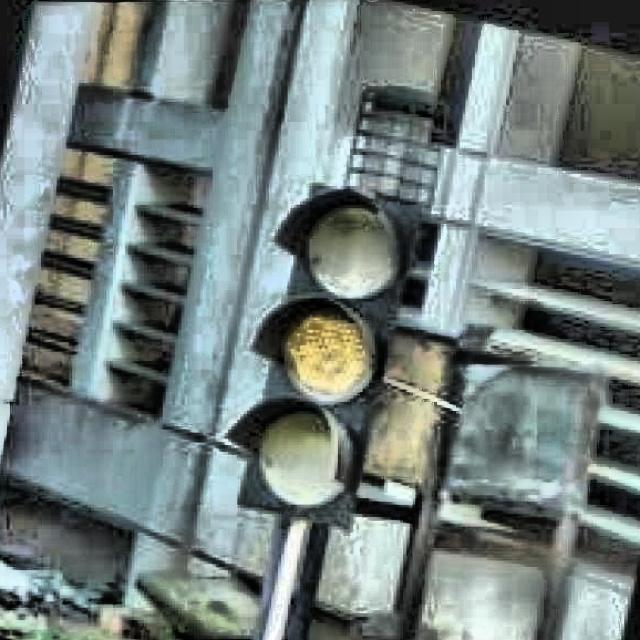yellow: (232, 198, 416, 528)
